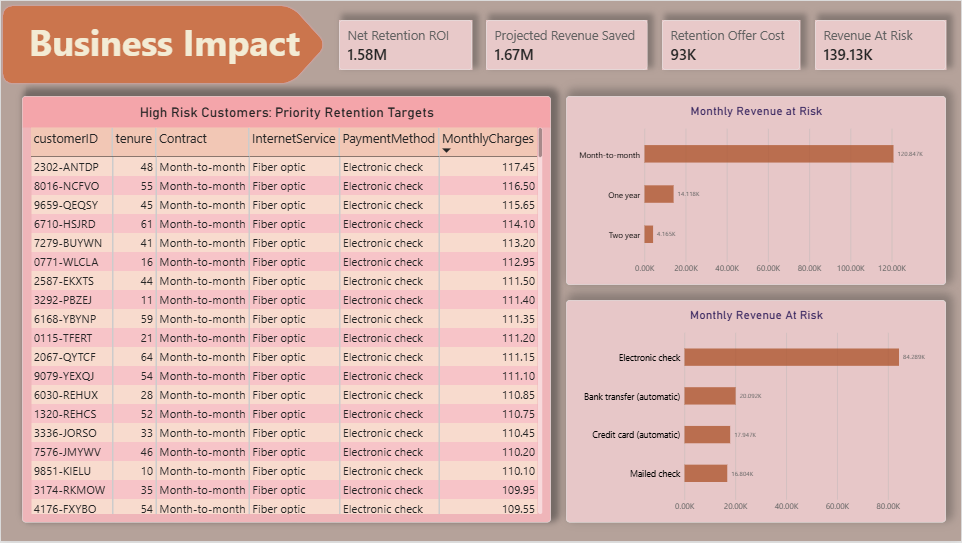

Layout of this report page (visuals, bound fields, positions):
{"tool":"powerbi","page":{"name":"Business Impact","canvas":[1920,1080],"ordinal":2},"visuals":[{"type":"shape","box":[0,5,655,162.5],"z":0,"group":"g1"},{"type":"cardVisual","fields":{"Data":["_Measures.Revenue At Risk"]},"box":[1627.5,37.5,262.5,100],"z":1000},{"type":"cardVisual","fields":{"Data":["_Measures.Retention Offer Cost"]},"box":[1322.2,37.5,276.7,100],"z":2000},{"type":"cardVisual","fields":{"Data":["_Measures.Projected Revenue Saved"]},"box":[970.3,37.5,323.3,100],"z":3000},{"type":"cardVisual","fields":{"Data":["_Measures.Net Retention ROI"]},"box":[675,37.5,266.7,100],"z":4000},{"type":"clusteredBarChart","title":"Monthly Revenue at Risk ","fields":{"Category":["customer_churn.Contract"],"Y":["_Measures.Revenue At Risk"]},"box":[1130,190,760,377.5],"z":5000},{"type":"clusteredBarChart","title":"Monthly Revenue At Risk","fields":{"Category":["customer_churn.PaymentMethod"],"Y":["_Measures.Revenue At Risk"]},"box":[1130,597.5,760,445],"z":6000},{"type":"tableEx","title":"High Risk Customers: Priority Retention Targets","fields":{"Values":["customer_churn.customerID","customer_churn.tenure","customer_churn.Contract","customer_churn.InternetService","customer_churn.PaymentMethod","customer_churn.MonthlyCharges"]},"box":[42.5,190,1057.5,852.5],"z":7000},{"type":"textbox","box":[11,30,630,110],"z":8000,"group":"g1"},{"type":"group","id":"g1","title":"Group 1","box":[0,5,655,162.5],"z":8001}]}

Visuals, with their boxes in screenshot pixels (x1, y1, x2, y2), scaled from the page's 1920x1080 canvas onto the 962x543 screenshot:
shape: 0/3/328/84
cardVisual - _Measures.Revenue At Risk: 815/19/947/69
cardVisual - _Measures.Retention Offer Cost: 662/19/801/69
cardVisual - _Measures.Projected Revenue Saved: 486/19/648/69
cardVisual - _Measures.Net Retention ROI: 338/19/472/69
"Monthly Revenue at Risk " clusteredBarChart: 566/96/947/285
"Monthly Revenue At Risk" clusteredBarChart: 566/300/947/524
"High Risk Customers: Priority Retention Targets" tableEx: 21/96/551/524
textbox: 6/15/321/70
"Group 1" group: 0/3/328/84
